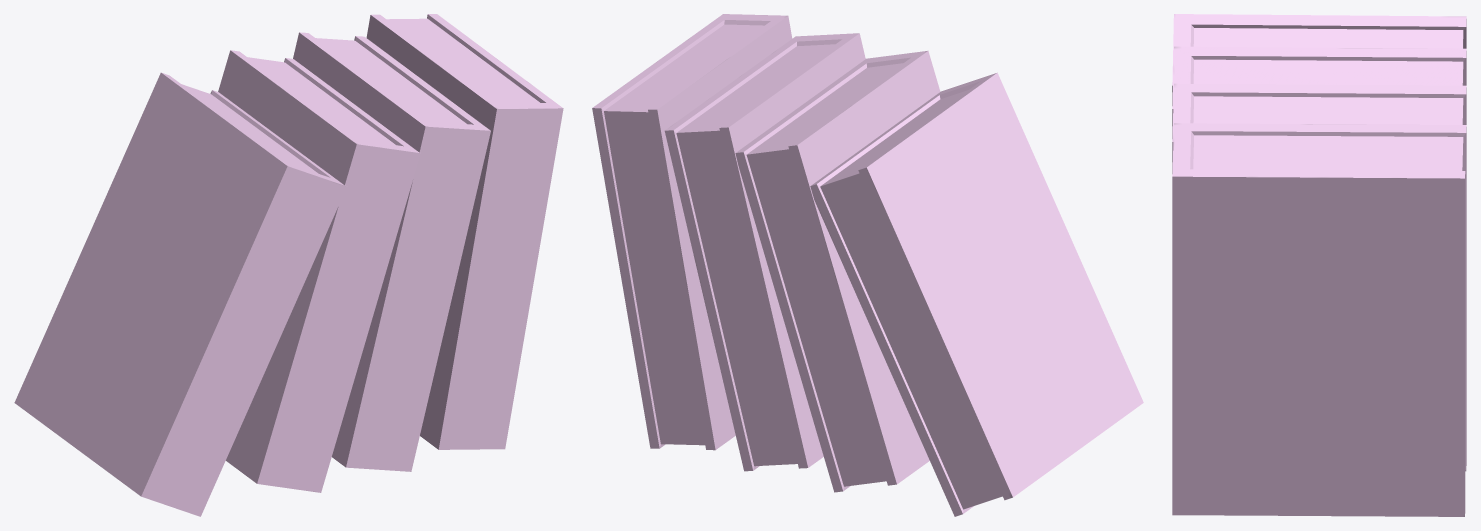
Rendered from BooksRoom.fbx.
3 views of the same model, side by side, from view 1: azimuth 30°, elevation 25°; view 2: azimuth 150°, elevation 25°; view 3: azimuth 270°, elevation 25° (orthographic). The views are drawn at different scales.
Parts seen in each view (by area): view 1: DeskRoom.001; view 2: DeskRoom.001; view 3: DeskRoom.001.
Part boxes in pixels (x1=…): DeskRoom.001: x1=14, y1=14, x2=563, y2=516; DeskRoom.001: x1=592, y1=14, x2=1143, y2=516; DeskRoom.001: x1=1172, y1=14, x2=1466, y2=516.
Bounding box in the file's own units: 53.56 × 41.25 × 28.33.
